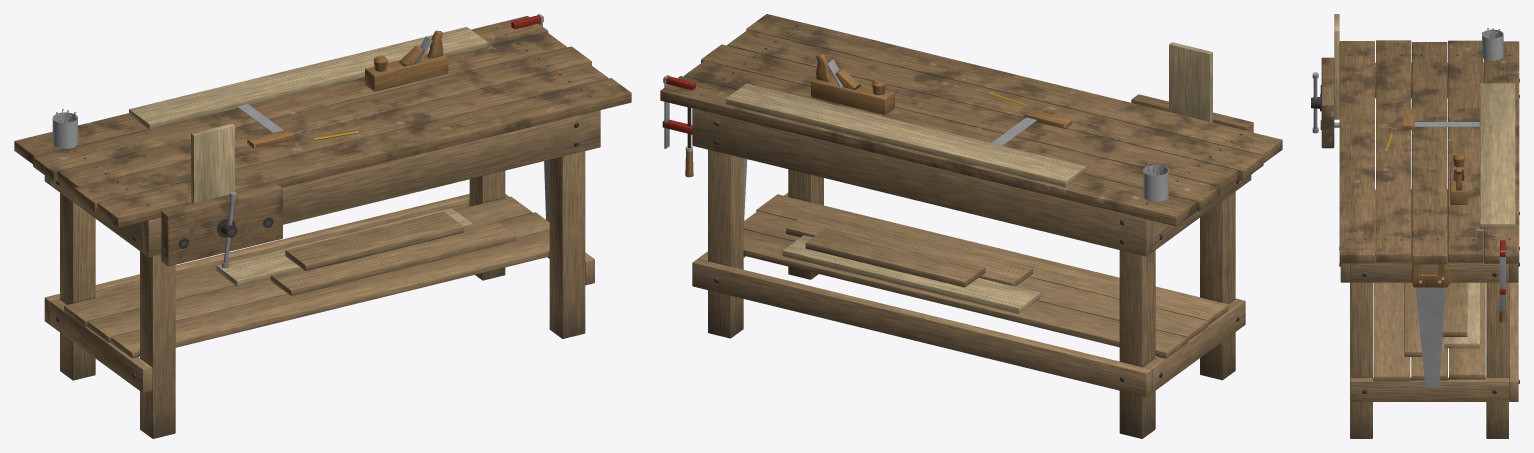
Rendered from bancada_carpintaria.glb.
3 renders of one model, left to right at view 1: azimuth 30°, elevation 25°; view 2: azimuth 150°, elevation 25°; view 3: azimuth 270°, elevation 25°, orthographic. The views are drawn at different scales.
Parts seen in each view (by area): view 1: estrutura, tampo, ferramentas, morsa; view 2: estrutura, tampo, ferramentas, morsa; view 3: tampo, estrutura, ferramentas, morsa, ferragens.
Boxes of the visible parts, bbox=[...] form: estrutura: bbox=[44, 110, 600, 438]; tampo: bbox=[14, 16, 631, 227]; ferramentas: bbox=[52, 14, 549, 295]; morsa: bbox=[161, 183, 282, 268]; estrutura: bbox=[692, 108, 1251, 438]; tampo: bbox=[660, 14, 1282, 226]; ferramentas: bbox=[662, 42, 1212, 313]; morsa: bbox=[1131, 94, 1253, 132]; tampo: bbox=[1339, 40, 1519, 264]; estrutura: bbox=[1340, 62, 1518, 438]; ferramentas: bbox=[1334, 14, 1515, 387]; morsa: bbox=[1311, 57, 1339, 148]; ferragens: bbox=[1339, 54, 1519, 393].
Size of the model in its own units: 2.04 by 1.13 by 0.828.
Materials: 3 (3 with a texture image).
